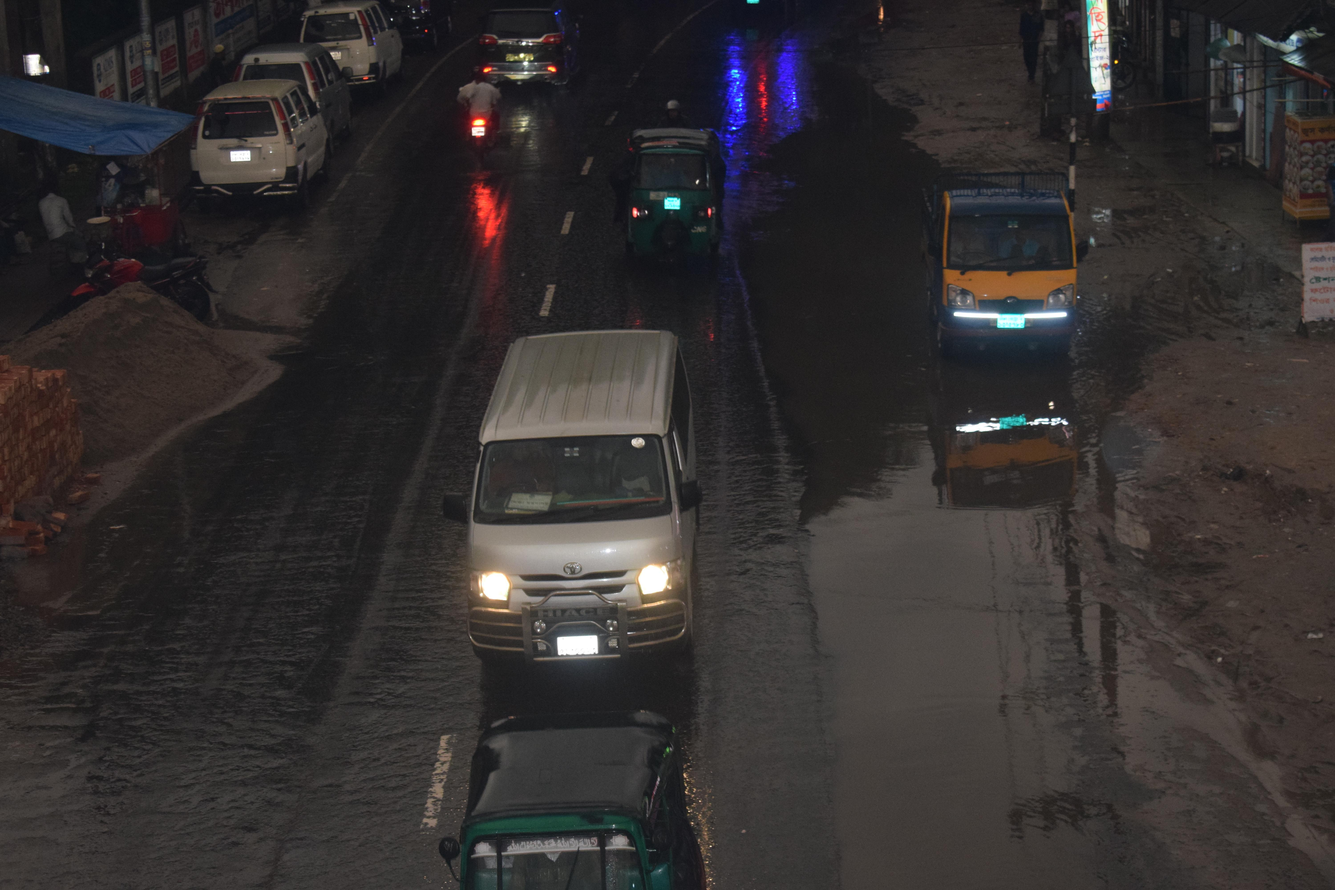Bike: (434, 46, 528, 168)
Car: (406, 275, 730, 719), (172, 64, 348, 213), (444, 0, 602, 101), (285, 0, 438, 100), (232, 33, 364, 139)
Truck: (893, 117, 1129, 402)
